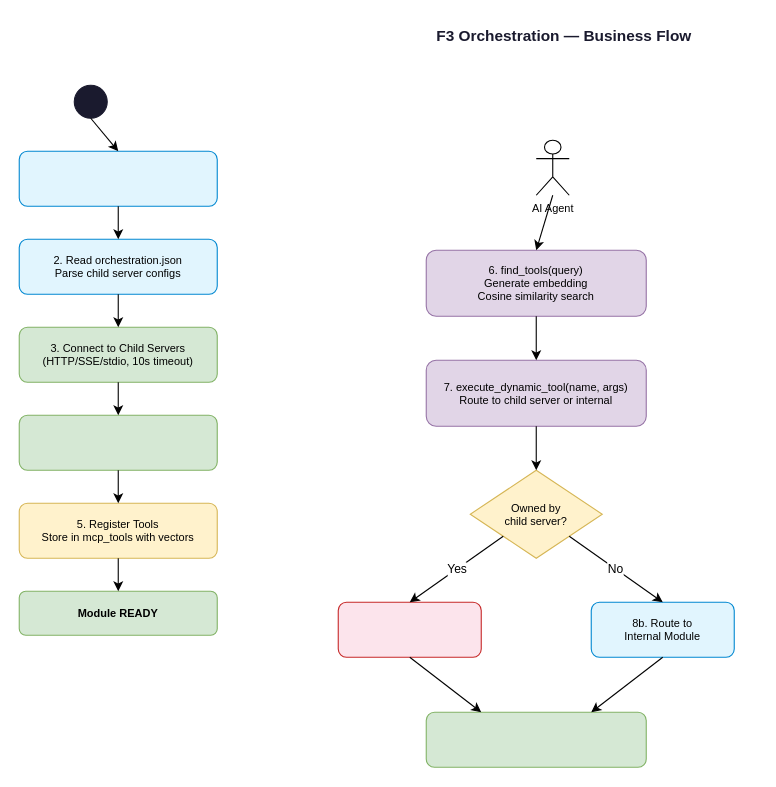
Image size: 776x787. Some labels were removed from this diagram. The shapes that lost their labels are listed below. From the top down, each one's centre as x and y in pixels, then its label:
At (117,178): "1. Backend Startup ModuleRegistry.initialize()".
At (117,442): "4. Fetch Tools List from each connected server".
At (409,629): "8a. Proxy to Child Server".
At (535,739): "9. Return MCP Result to Agent".
